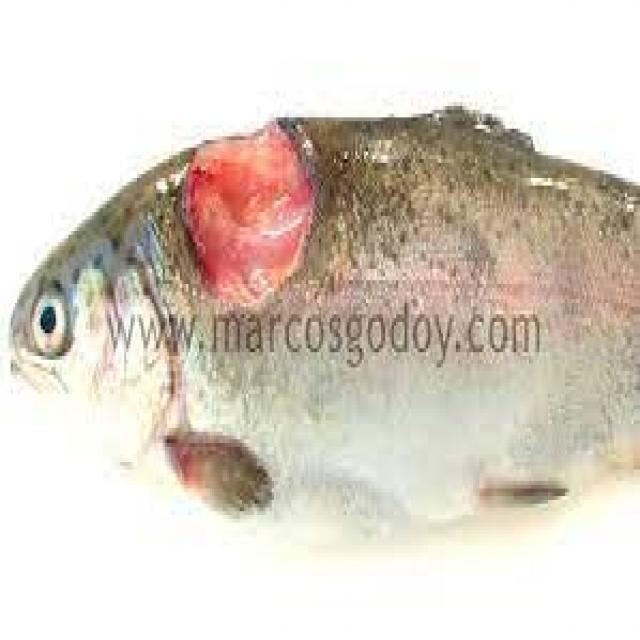EUS Disease: (13, 107, 626, 549), (162, 114, 364, 377)
